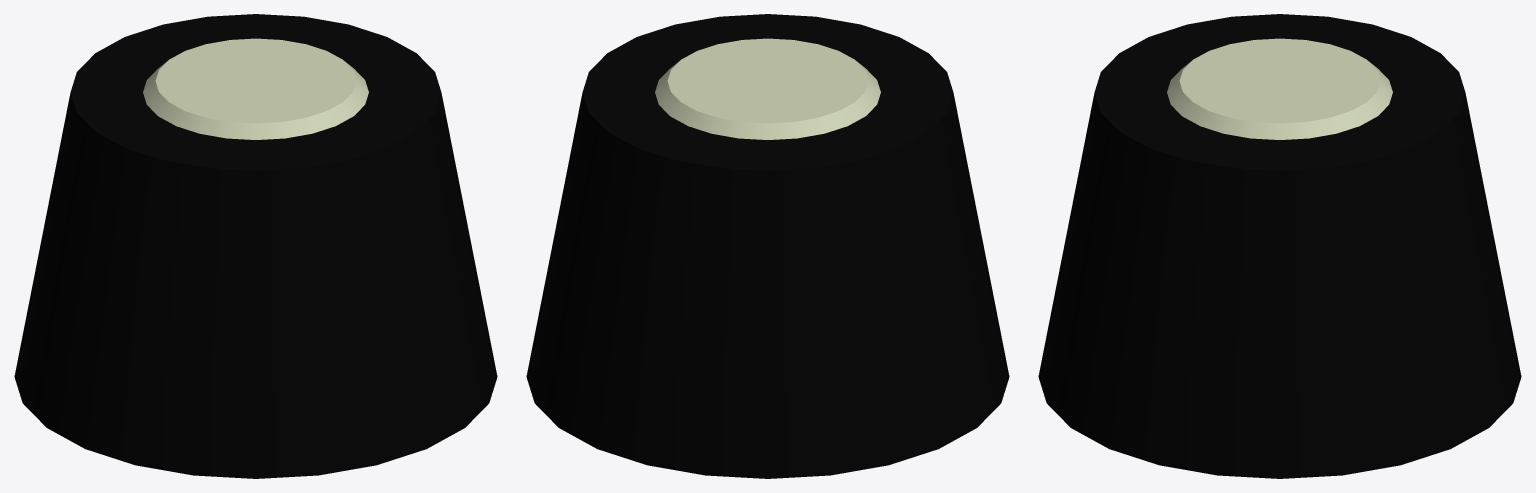
The model's file is aquila_crew_s1_3_2_interior.obj.
3 renders of one model, left to right at view 1: azimuth 30°, elevation 25°; view 2: azimuth 150°, elevation 25°; view 3: azimuth 270°, elevation 25°, orthographic.
Visible parts, largest first — view 1: aquila_crew_s1_3_2_interior, aquila_crew_s1_3_2_interior_mask; view 2: aquila_crew_s1_3_2_interior, aquila_crew_s1_3_2_interior_mask; view 3: aquila_crew_s1_3_2_interior, aquila_crew_s1_3_2_interior_mask.
Part boxes in pixels (left/top/right/bottom): aquila_crew_s1_3_2_interior: left=14, top=14, right=497, bottom=478; aquila_crew_s1_3_2_interior_mask: left=143, top=38, right=368, bottom=139; aquila_crew_s1_3_2_interior: left=526, top=14, right=1009, bottom=478; aquila_crew_s1_3_2_interior_mask: left=655, top=38, right=880, bottom=139; aquila_crew_s1_3_2_interior: left=1038, top=14, right=1521, bottom=478; aquila_crew_s1_3_2_interior_mask: left=1167, top=38, right=1392, bottom=139.
Size of the model in its own units: 1.2 by 0.825 by 1.2.
2 materials, 1 textured.
